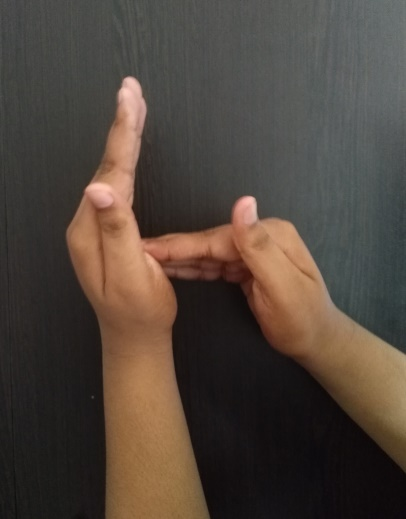ga: (63, 74, 346, 364)
